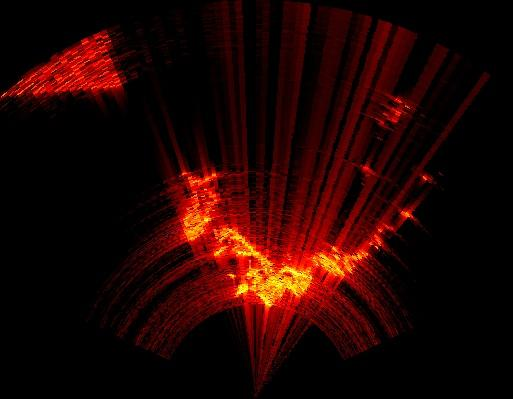shipwreck: (216, 227, 384, 306), (0, 31, 122, 99), (181, 173, 219, 241)
